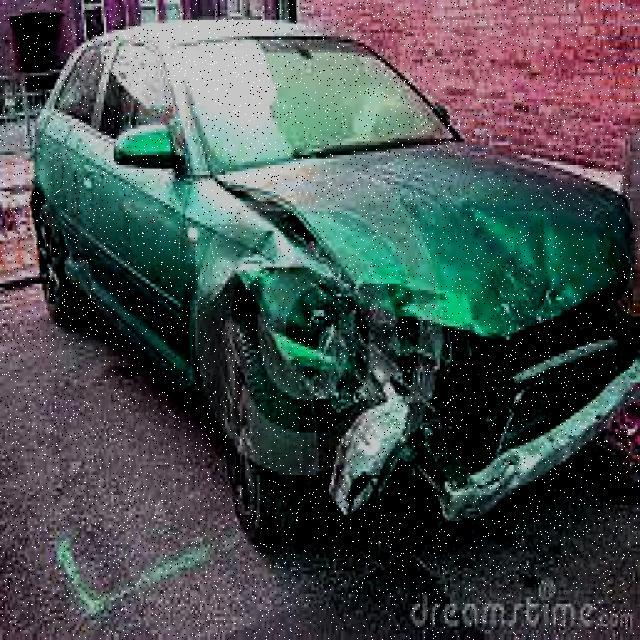car damage: (202, 139, 640, 515)
